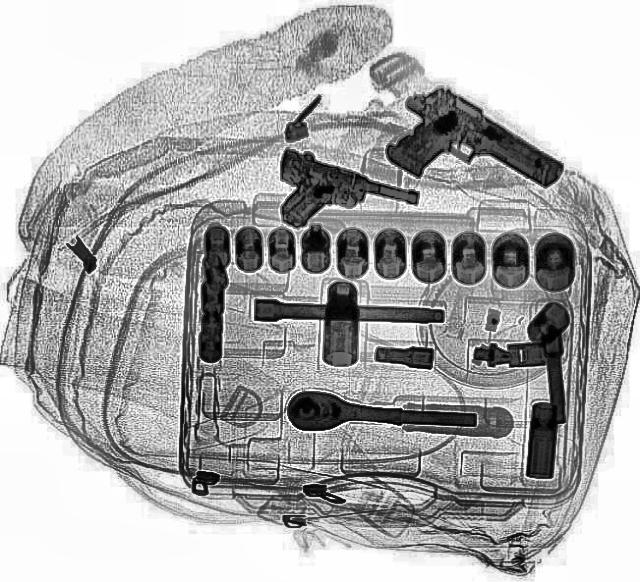Gun: (362, 73, 572, 233), (253, 144, 424, 258)
